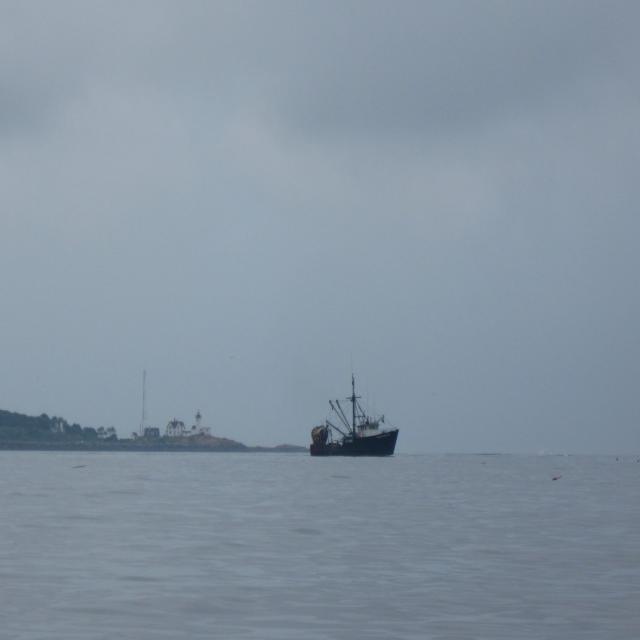fishing boat: (302, 380, 400, 456)
